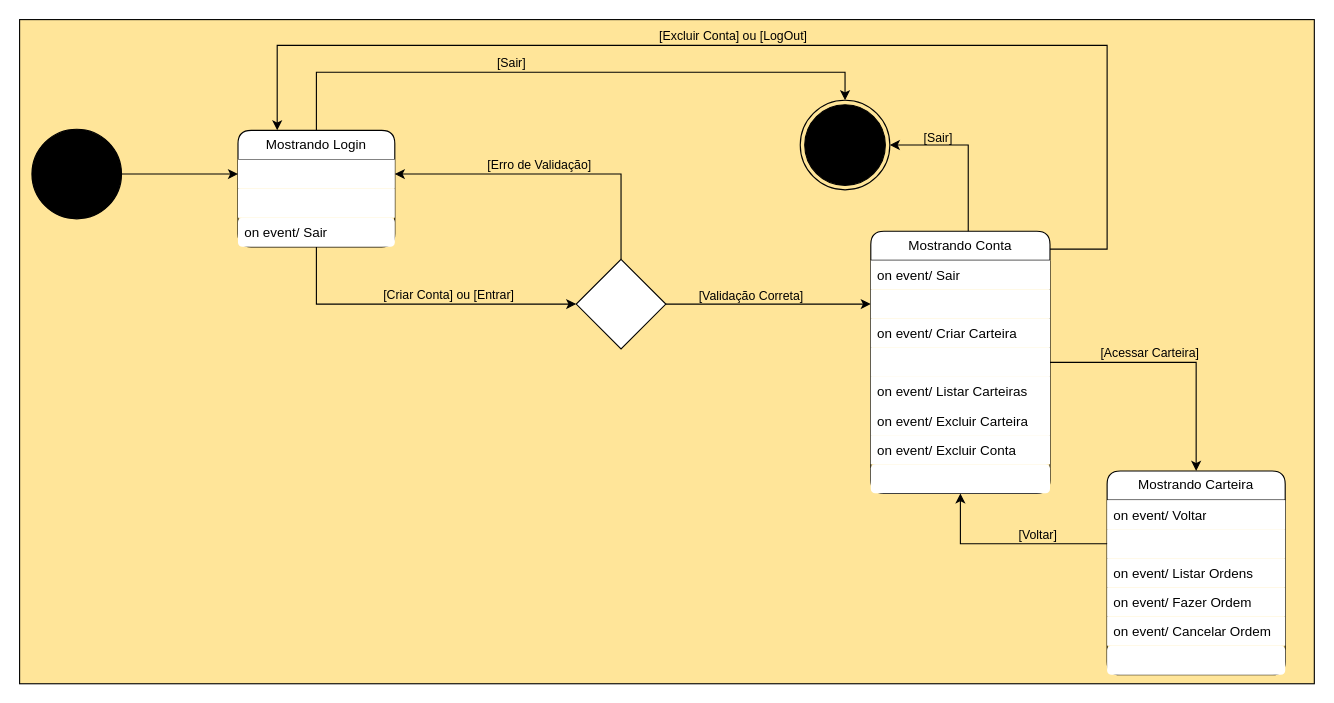
Image size: 1334x703. Some labels were removed from this diagram. The box of each missing label's shape, as (x1, y1, x2, y2) in pixels:
on event/ Acessar Carteira: (870, 347, 1049, 376)
on event/ Criar Conta: (237, 159, 394, 188)
on event/ Editar Carteira: (1107, 529, 1285, 558)
on event/ Entrar: (237, 188, 394, 217)
on event/ Excluir Ordem: (1107, 645, 1285, 674)
on event/ LogOut: (870, 464, 1049, 493)
on event/ Mudar Nome: (870, 289, 1049, 318)
